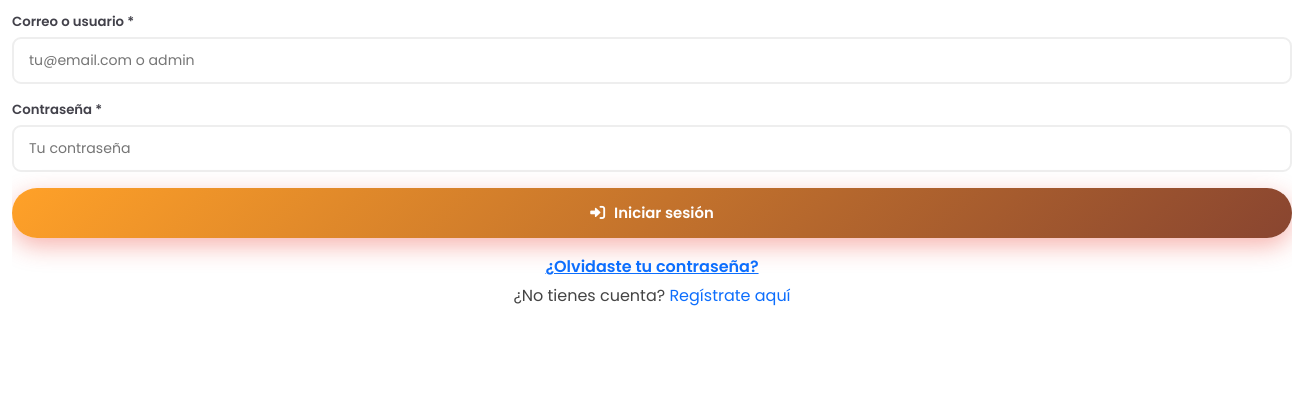
FormLogin › con los campos vacíos muestra los errores al enviar
The width and height of the screenshot is (1304, 413).
Click the button "Iniciar sesión". click: (652, 213)
box: 12,188 -> 1292,238
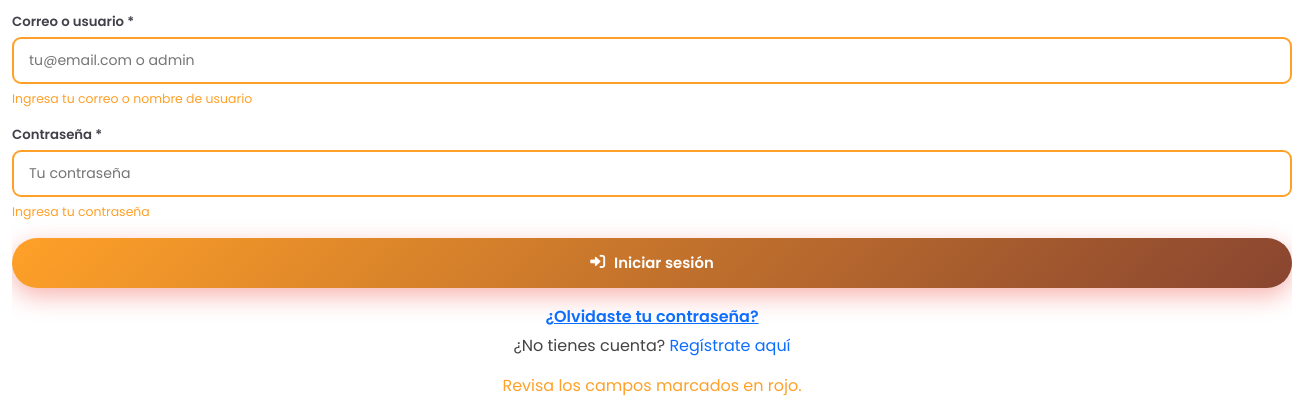
Result: the text "Revisa los campos marcados en rojo." is shown at 502,374 -> 802,397
